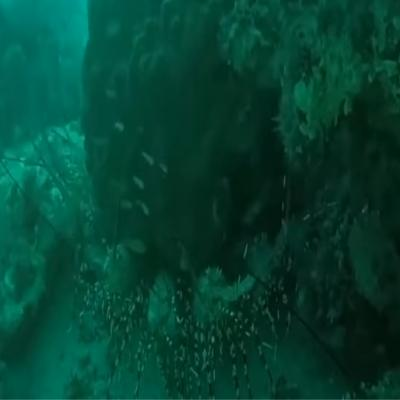lobster: (191, 265, 234, 380), (245, 229, 285, 338), (142, 273, 182, 382), (101, 239, 136, 361)
